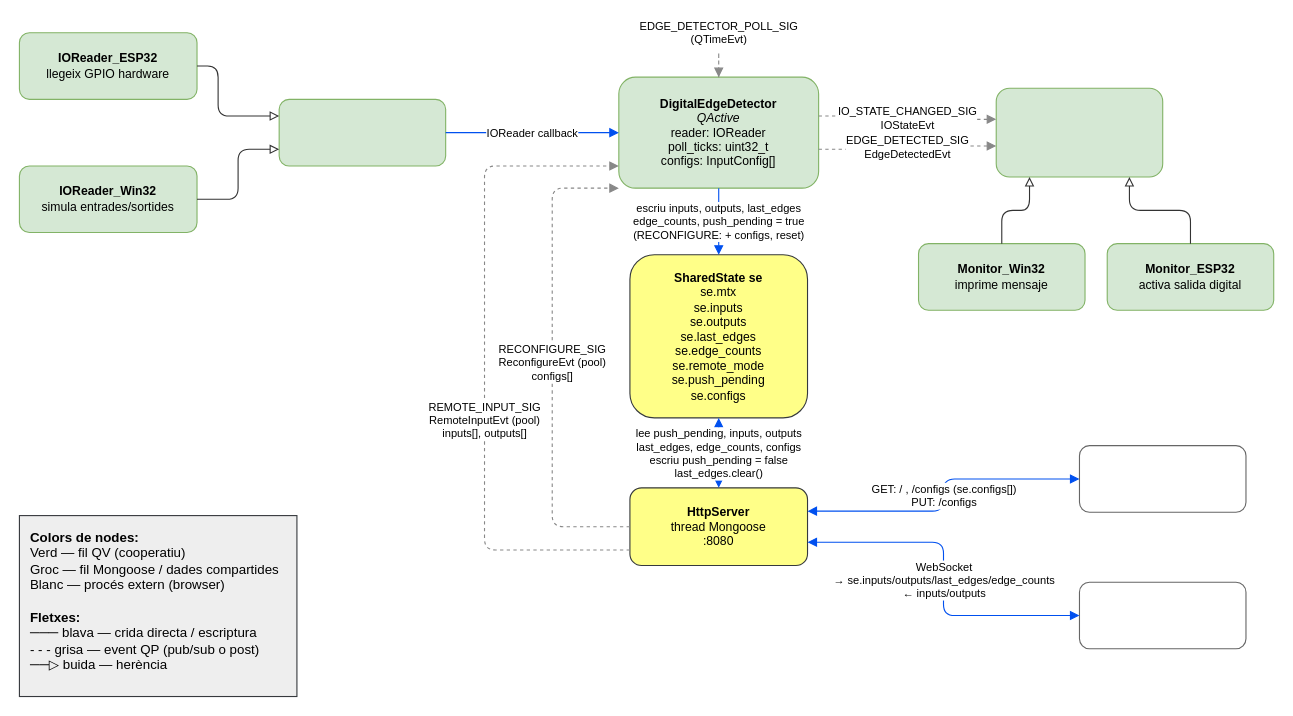
Image size: 1293x716. Some labels were removed from this diagram. The centre of each missing label's shape, as x and y in pixels:
"Browser HTTP REST" goes at pixel 1162 478.
"Browser WebSocket /ws" goes at pixel 1162 615.
"IOReader {abstract}" goes at pixel 362 132.
"Monitor QActive {abstract}" goes at pixel 1079 132.
